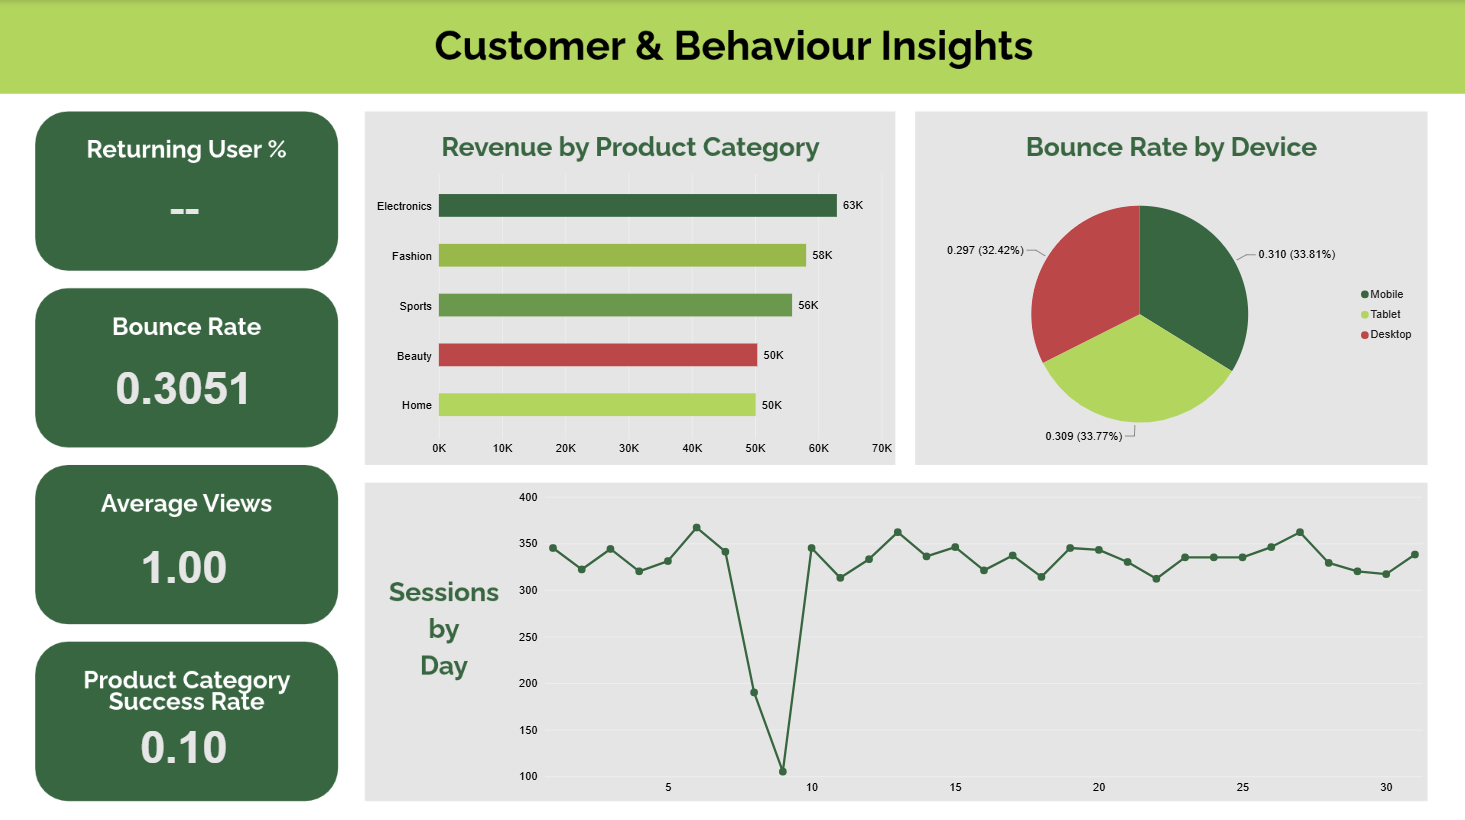

The page's visual inventory and layout, read from the dashboard file:
{"tool":"powerbi","page":{"name":"Customer & Behaviour Insights","canvas":[1920,1080],"ordinal":2},"visuals":[{"type":"cardVisual","fields":{"Data":["Funnel_Analysis_Data.Bounce Rate"]},"box":[122.1,456.6,238.9,103.5],"z":0},{"type":"cardVisual","fields":{"Data":["Funnel_Analysis_Data.Returning Users %"]},"box":[135.4,220.3,210.6,103.8],"z":1},{"type":"cardVisual","fields":{"Data":["Funnel_Analysis_Data.AVG Views Per User"]},"box":[135.4,690.1,210.6,103.8],"z":2},{"type":"cardVisual","fields":{"Data":["Funnel_Analysis_Data.Product Category Success Rate"]},"box":[135.4,926.4,210.6,103.8],"z":3},{"type":"donutChart","fields":{"Category":["Funnel_Analysis_Data.Device"],"Y":["Funnel_Analysis_Data.Bounce Rate"]},"box":[1202.4,220.3,653,382.2],"z":4},{"type":"barChart","fields":{"Category":["Funnel_Analysis_Data.Product Category"],"Y":["Sum(Funnel_Analysis_Data.Revenue)"]},"box":[483.1,220.3,684.8,382.2],"z":5},{"type":"lineChart","fields":{"Category":["Funnel_Analysis_Data.Date.Variation.Date Hierarchy.Day"],"Y":["Funnel_Analysis_Data.Total Count"]},"box":[672.5,632.5,1195,417.5],"z":6}]}

Visuals, with their boxes in screenshot pixels (x1, y1, x2, y2), scaled from the page's 1920x1080 canvas onto the 1465x820 screenshot:
cardVisual - Funnel_Analysis_Data.Bounce Rate: (93,347,275,425)
cardVisual - Funnel_Analysis_Data.Returning Users %: (103,167,264,246)
cardVisual - Funnel_Analysis_Data.AVG Views Per User: (103,524,264,603)
cardVisual - Funnel_Analysis_Data.Product Category Success Rate: (103,703,264,782)
donutChart - Funnel_Analysis_Data.Device x Funnel_Analysis_Data.Bounce Rate: (917,167,1416,457)
barChart - Funnel_Analysis_Data.Product Category x Sum(Funnel_Analysis_Data.Revenue): (369,167,891,457)
lineChart - Funnel_Analysis_Data.Date.Variation.Date Hierarchy.Day x Funnel_Analysis_Data.Total Count: (513,480,1425,797)
